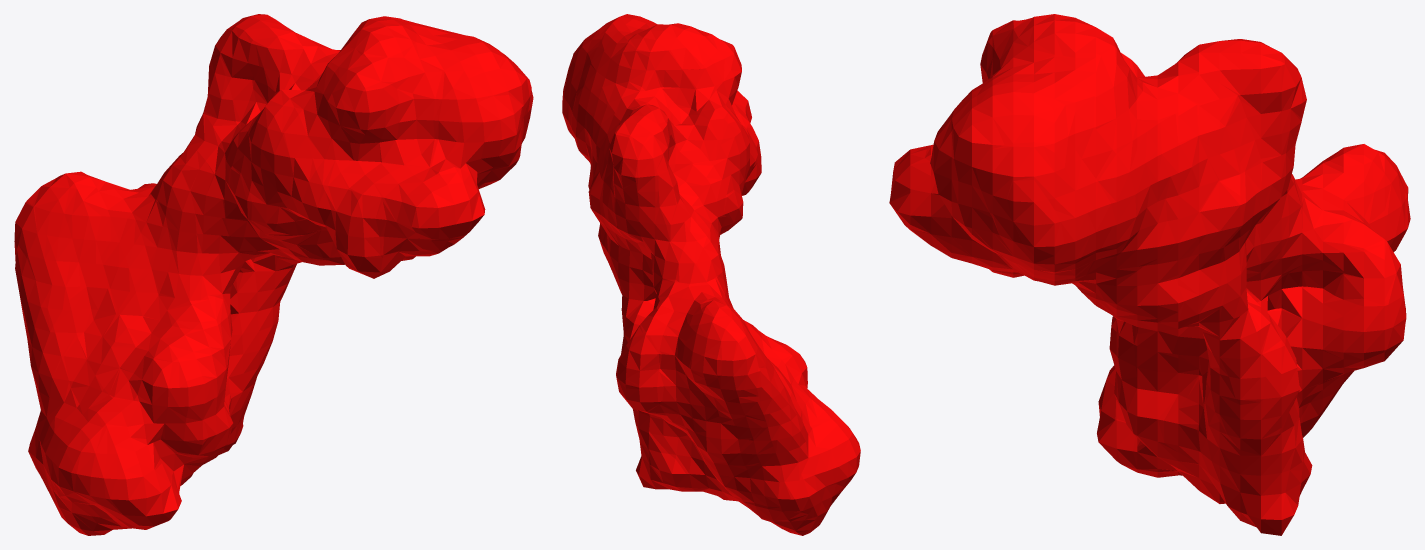
File: secD_coarse.dae
The picture shows the model from 3 angles, left to right: view 1: azimuth 30°, elevation 25°; view 2: azimuth 150°, elevation 25°; view 3: azimuth 270°, elevation 25°; orthographic projection. The views are drawn at different scales.
Parts seen in each view (by area): view 1: secD; view 2: secD; view 3: secD.
Part boxes in pixels (x1,y1,x2,y2): secD: (14, 14, 533, 535); secD: (562, 14, 860, 535); secD: (889, 14, 1410, 535).
Size of the model in its own units: 78.37 by 91.95 by 73.56.
